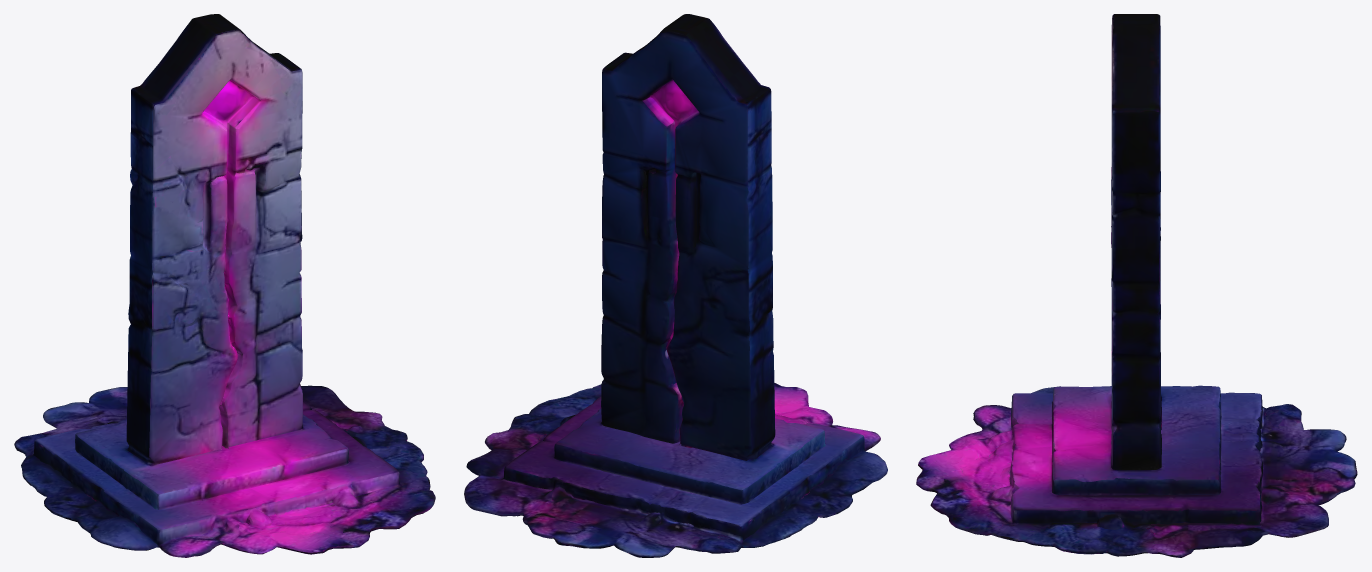
File: weathered-monolith-pillar-generated-2026-05-17T19-16-10-569Z.low.glb
3 views of the same model, side by side, from view 1: azimuth 30°, elevation 25°; view 2: azimuth 150°, elevation 25°; view 3: azimuth 270°, elevation 25° (orthographic).
Visible parts, largest first — view 1: temp_mesh.ply; view 2: temp_mesh.ply; view 3: temp_mesh.ply.
Part boxes in pixels (x1=…): temp_mesh.ply: x1=14, y1=14, x2=435, y2=557; temp_mesh.ply: x1=464, y1=14, x2=887, y2=557; temp_mesh.ply: x1=916, y1=14, x2=1357, y2=557.
Bounding box in the file's own units: 1.58 × 1.97 × 1.75.
Materials: 1 (1 with a texture image).
